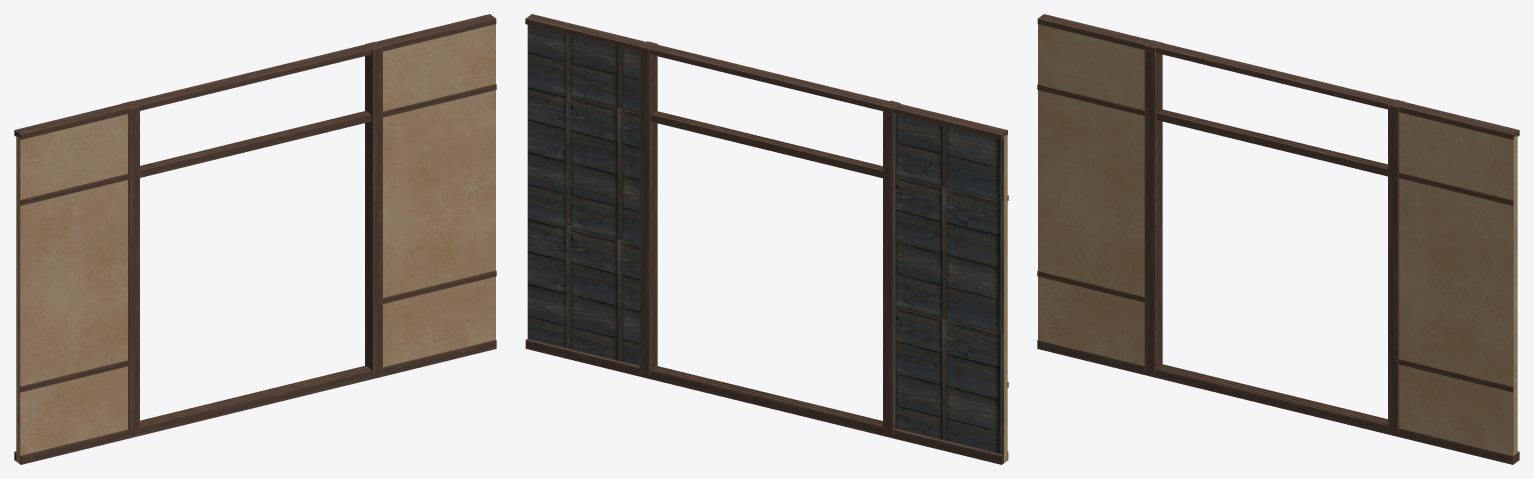
Rendered from jov_outwall01_2t_to_b2.fbx.
3 views of the same model, side by side, from view 1: azimuth 30°, elevation 25°; view 2: azimuth 150°, elevation 25°; view 3: azimuth 330°, elevation 25° (orthographic).
Parts seen in each view (by area): view 1: jov_outwall01_2t_to_b2; view 2: jov_outwall01_2t_to_b2; view 3: jov_outwall01_2t_to_b2.
Part boxes in pixels (left/top/right/bottom): jov_outwall01_2t_to_b2: left=14, top=14, right=496, bottom=464; jov_outwall01_2t_to_b2: left=525, top=14, right=1008, bottom=464; jov_outwall01_2t_to_b2: left=1037, top=14, right=1519, bottom=464.
Size of the model in its own units: 440 by 292 by 12.44.
